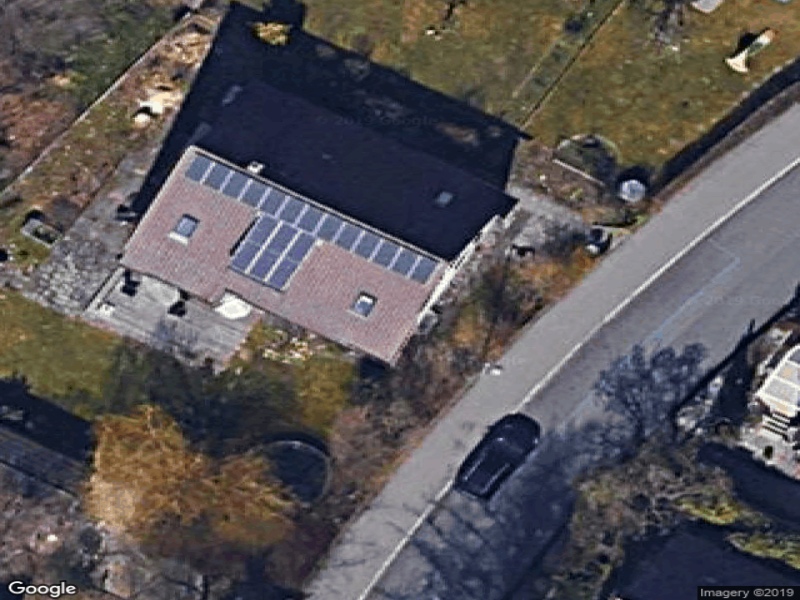pv: (184, 150, 436, 293)
